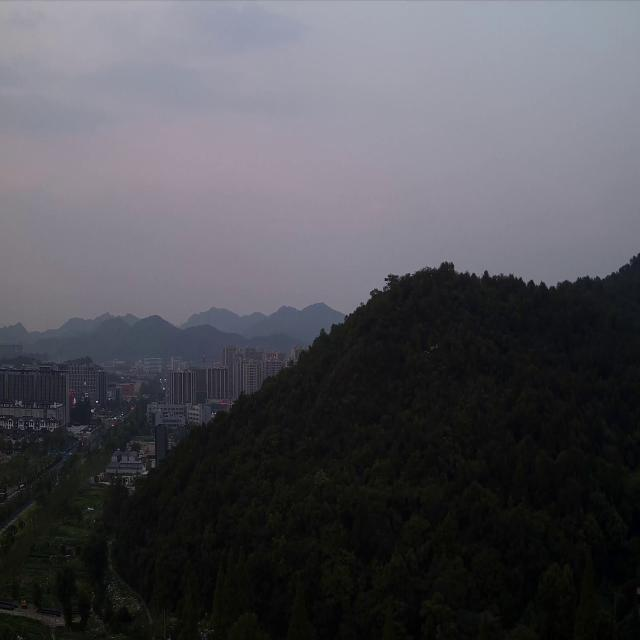UAV: (424, 343, 438, 354)
